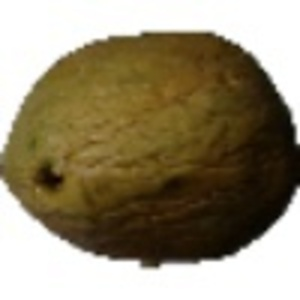mamão: (4, 19, 295, 278)
